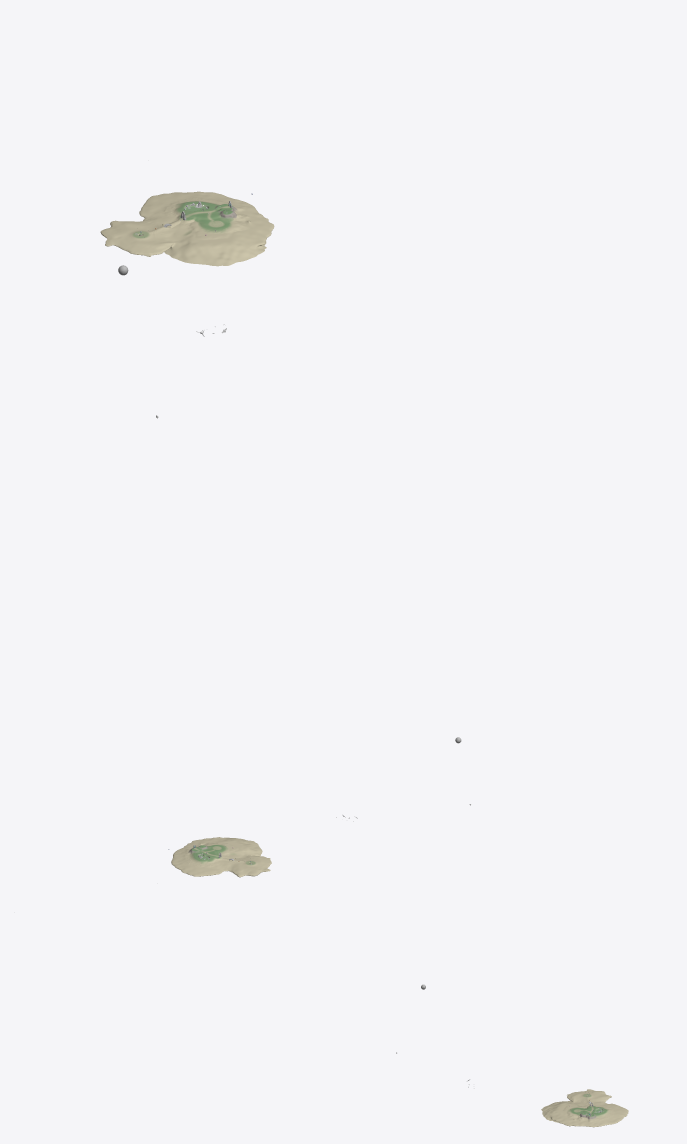
File: BstBaked.glb
3 views of the same model, one above another, from view 1: azimuth 30°, elevation 25°; view 2: azimuth 150°, elevation 25°; view 3: azimuth 270°, elevation 25° (orthographic). The views are drawn at different scales.
Parts seen in each view (by area): view 1: BstBaked_terrain; view 2: BstBaked_terrain; view 3: BstBaked_terrain.
Part boxes in pixels (x1,y1,x2,y2): BstBaked_terrain: (100,191,274,266); BstBaked_terrain: (171,837,271,877); BstBaked_terrain: (541,1089,628,1127).
Bounding box in the file's own units: 363 × 220 × 838.
